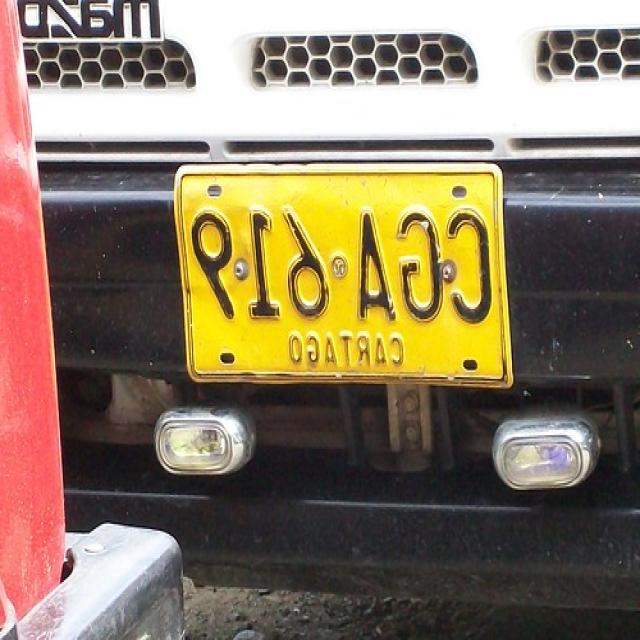placas: (182, 196, 503, 334)
